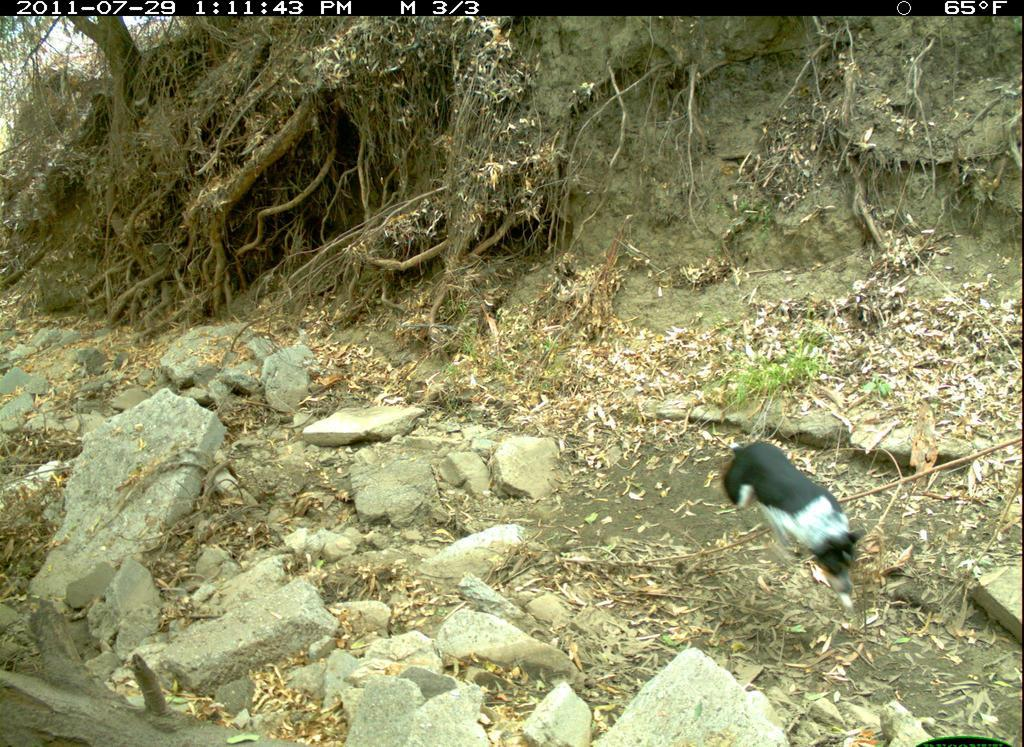dog: (712, 429, 890, 633)
